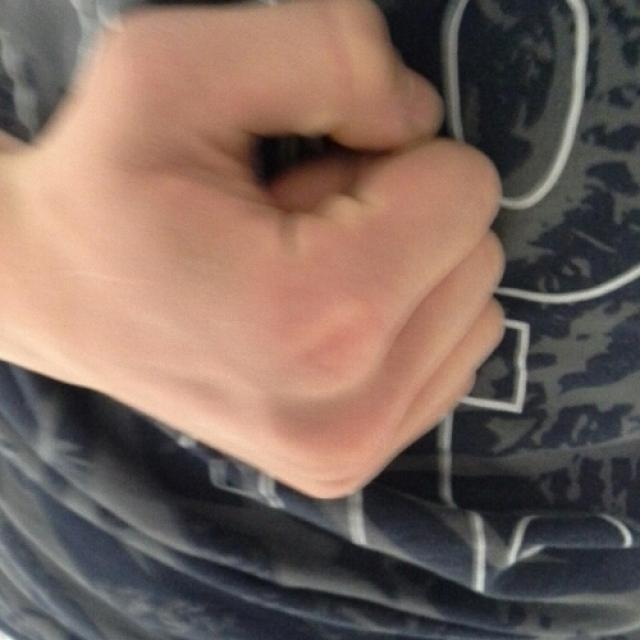rock: (77, 0, 513, 499)
